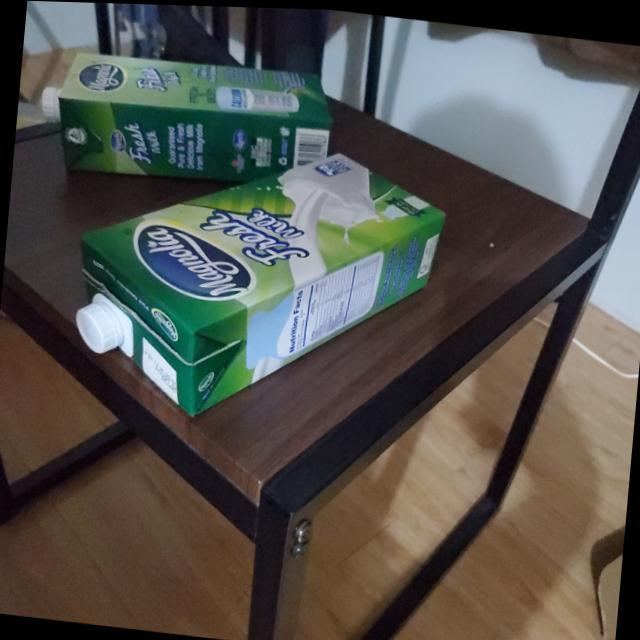milk: (64, 122, 452, 442), (48, 42, 340, 205)
